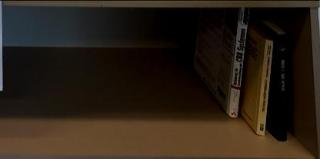book-spine: (227, 7, 250, 119), (256, 38, 274, 137), (279, 34, 287, 142)
